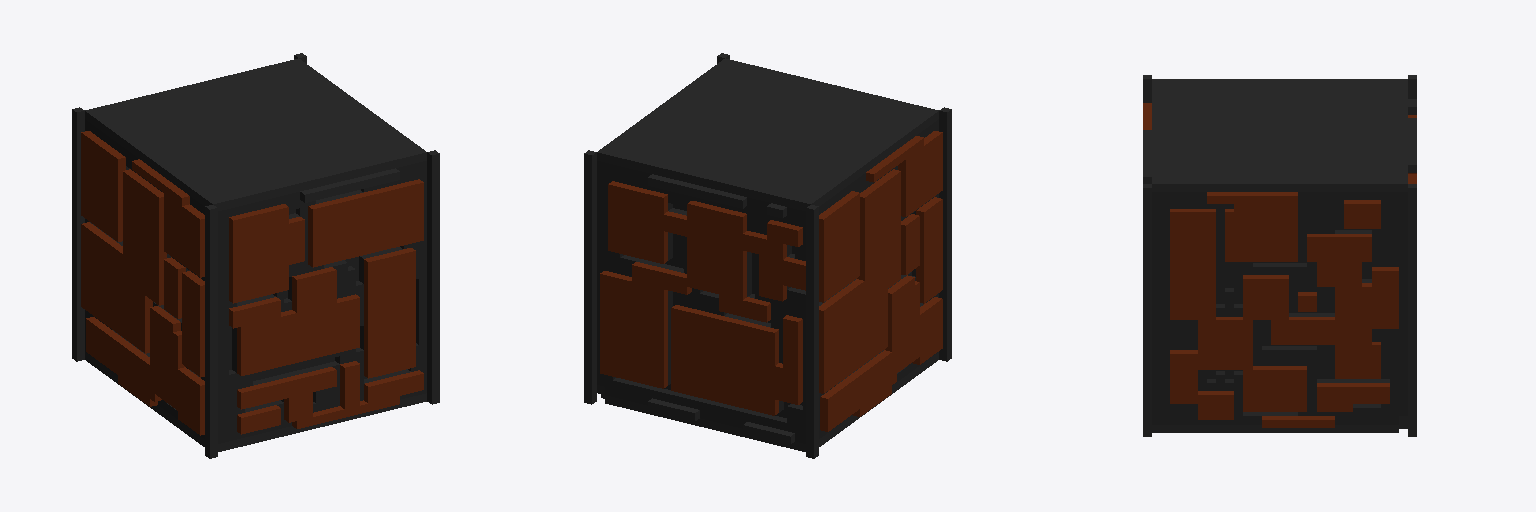
The picture shows the model from 3 angles: view 1: azimuth 30°, elevation 25°; view 2: azimuth 150°, elevation 25°; view 3: azimuth 270°, elevation 25°; orthographic projection.
Parts seen in each view (by area): view 1: CopperOre; view 2: CopperOre; view 3: CopperOre.
Boxes of the visible parts, <box> form: CopperOre: <box>72,53,439,458</box>; CopperOre: <box>584,53,951,458</box>; CopperOre: <box>1143,75,1416,436</box>.
Bounding box in the file's own units: 29 × 30 × 30.
Materials: 1 (1 with a texture image).